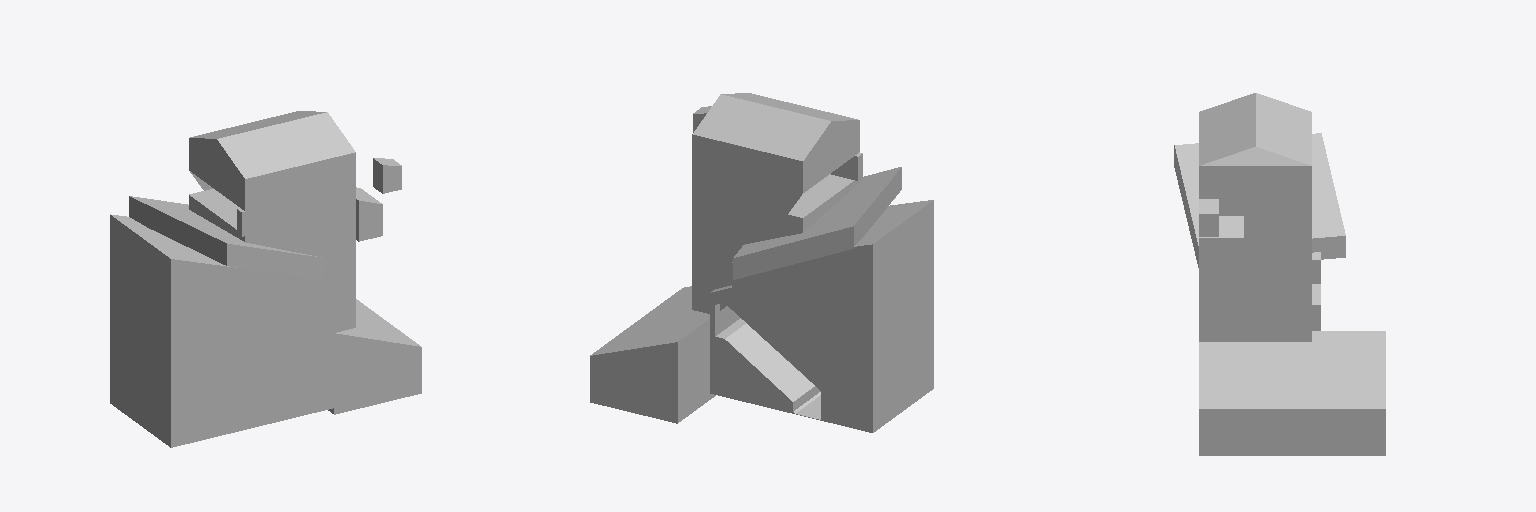
File: Scranton Coal Breaker 3 .obj
3 renders of one model, left to right at view 1: azimuth 30°, elevation 25°; view 2: azimuth 150°, elevation 25°; view 3: azimuth 270°, elevation 25°, orthographic.
Parts seen in each view (by area): view 1: Mesh1 Model, Mesh2 Model, Mesh3 Model, Mesh4 Model; view 2: Mesh1 Model, Mesh2 Model; view 3: Mesh1 Model, Mesh2 Model, Mesh3 Model, Mesh4 Model.
Part boxes in pixels (left/top/right/bottom): Mesh1 Model: left=110, top=111, right=421, bottom=447; Mesh2 Model: left=129, top=196, right=323, bottom=279; Mesh3 Model: left=356, top=187, right=382, bottom=241; Mesh4 Model: left=373, top=158, right=401, bottom=193; Mesh1 Model: left=590, top=93, right=933, bottom=432; Mesh2 Model: left=733, top=167, right=901, bottom=279; Mesh1 Model: left=1199, top=93, right=1385, bottom=455; Mesh2 Model: left=1174, top=133, right=1345, bottom=267; Mesh3 Model: left=1199, top=216, right=1243, bottom=269; Mesh4 Model: left=1199, top=199, right=1218, bottom=236.
Size of the model in its own units: 195 by 205 by 142.